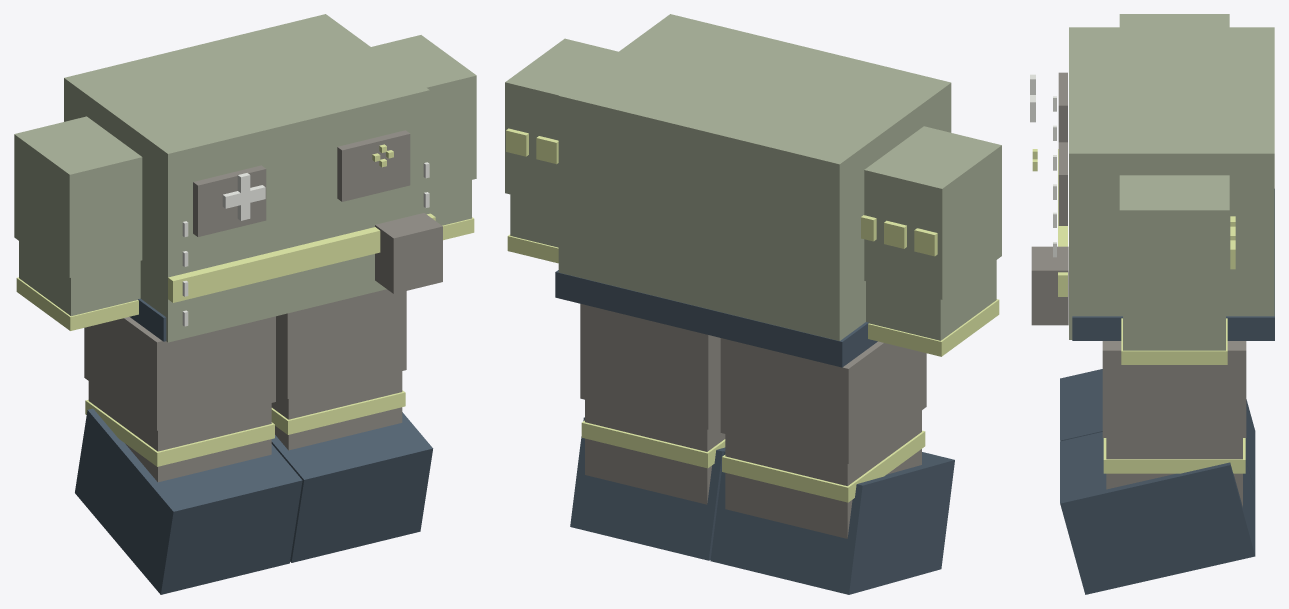
File: paramedic-sand.glb
3 renders of one model, left to right at view 1: azimuth 30°, elevation 25°; view 2: azimuth 150°, elevation 25°; view 3: azimuth 270°, elevation 25°, orthographic. The views are drawn at different scales.
Parts seen in each view (by area): view 1: jacket, shoe-Right, upper-sleeve-Right, trouser-Right, shoe-Left, trouser-Left, upper-sleeve-Left, lower-trouser-Right, reflective-band, lower-trouser-Left, lower-sleeve-Right, medical-pouch (+8 smaller); view 2: jacket, trouser-Right, shoe-Right, upper-sleeve-Right, trouser-Left, lower-trouser-Right, shoe-Left, medical-belt, upper-sleeve-Left, lower-trouser-Left, lower-sleeve-Right, reflective-leg-Right (+4 smaller); view 3: jacket, shoe-Left, upper-sleeve-Left, trouser-Left, lower-sleeve-Left, lower-trouser-Left, shoe-Right, medical-pouch, medical-belt, reflective-leg-Left, cuff-Left, upper-sleeve-Right (+3 smaller).
Part boxes in pixels (x1,y1,x2,y2): jacket: (64, 14, 429, 342); shoe-Right: (75, 408, 302, 594); upper-sleeve-Right: (14, 116, 142, 277); trouser-Right: (84, 316, 275, 430); shoe-Left: (271, 412, 433, 562); trouser-Left: (276, 289, 406, 398); upper-sleeve-Left: (371, 35, 476, 189); lower-trouser-Right: (88, 381, 271, 482); reflective-band: (168, 213, 435, 302); lower-trouser-Left: (271, 371, 402, 450); lower-sleeve-Right: (19, 241, 140, 316); medical-pouch: (375, 213, 442, 293); jacket: (558, 14, 951, 340); trouser-Right: (720, 338, 926, 463); shoe-Right: (710, 451, 954, 594); upper-sleeve-Right: (864, 126, 1001, 299); trouser-Left: (580, 304, 720, 429); lower-trouser-Right: (725, 410, 921, 538); shoe-Left: (570, 417, 725, 560); medical-belt: (555, 270, 877, 367); upper-sleeve-Left: (505, 38, 618, 205); lower-trouser-Left: (585, 400, 725, 504); lower-sleeve-Right: (866, 260, 996, 340); reflective-leg-Right: (722, 430, 925, 502); jacket: (1069, 27, 1274, 339); shoe-Left: (1060, 432, 1255, 594); upper-sleeve-Left: (1119, 175, 1229, 312); trouser-Left: (1102, 341, 1246, 437); lower-sleeve-Left: (1123, 312, 1225, 350); lower-trouser-Left: (1106, 438, 1242, 506); shoe-Right: (1060, 369, 1255, 492); medical-pouch: (1031, 246, 1068, 325); medical-belt: (1072, 189, 1274, 340); reflective-leg-Left: (1103, 438, 1245, 473); cuff-Left: (1121, 318, 1227, 364); upper-sleeve-Right: (1119, 14, 1229, 27).
Size of the model in its own units: 1.07 by 1.13 by 0.566.
